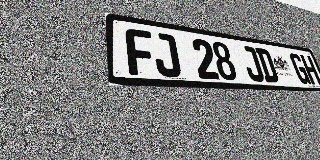2: (191, 38, 220, 80)
8: (211, 41, 238, 81)
D: (255, 47, 280, 83)
F: (125, 28, 157, 76)
G: (288, 53, 311, 84)
H: (300, 54, 320, 85)
J: (151, 32, 182, 78), (239, 45, 265, 82)
